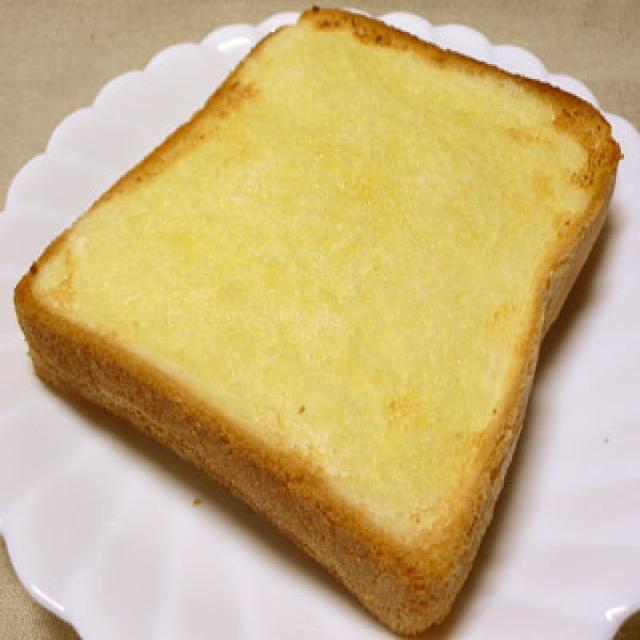面包点心: (13, 2, 627, 634)
